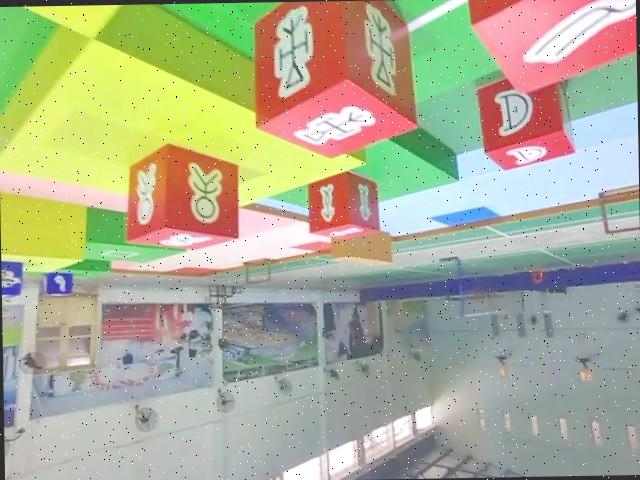R2 Real: (249, 0, 417, 160), (462, 0, 637, 98), (121, 140, 242, 254), (472, 68, 578, 173), (305, 168, 382, 241)
